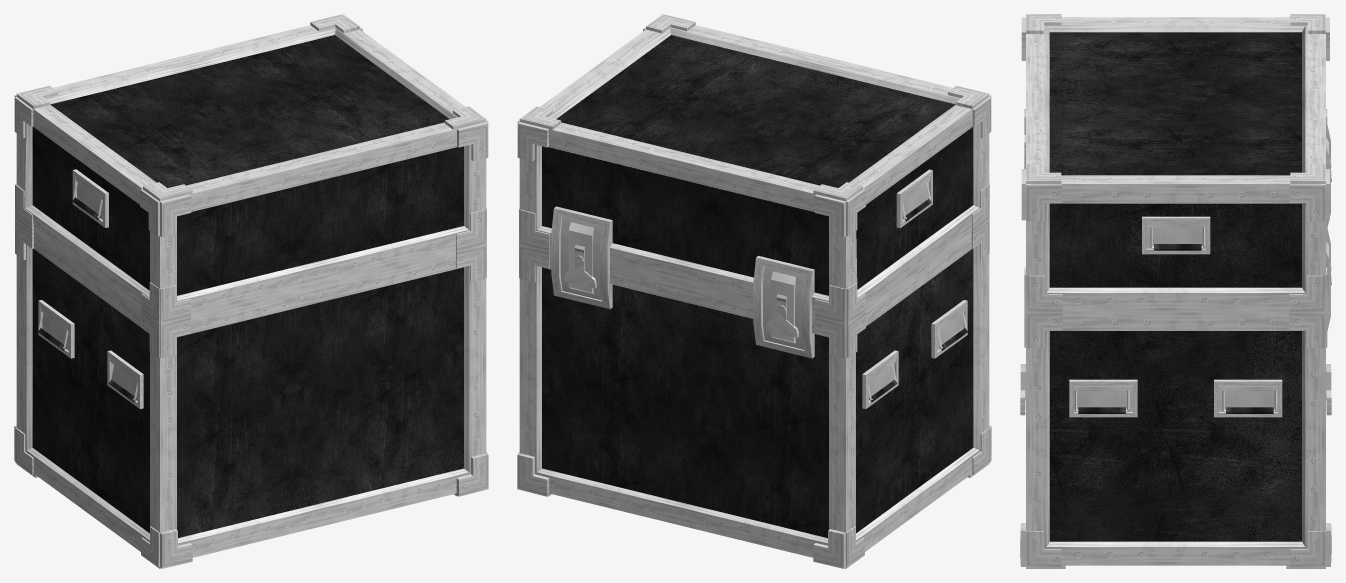
Rendered from flight_case_big_3.fbx.
The picture shows the model from 3 angles, left to right: view 1: azimuth 30°, elevation 25°; view 2: azimuth 150°, elevation 25°; view 3: azimuth 270°, elevation 25°; orthographic projection. The views are drawn at different scales.
Parts seen in each view (by area): view 1: flight_case_big_3; view 2: flight_case_big_3; view 3: flight_case_big_3.
Boxes of the visible parts, x1,y1,x2,y2 form: flight_case_big_3: [14, 14, 488, 568]; flight_case_big_3: [517, 14, 991, 568]; flight_case_big_3: [1020, 14, 1331, 568].
Size of the model in its own units: 1.17 by 1.24 by 0.8996.
